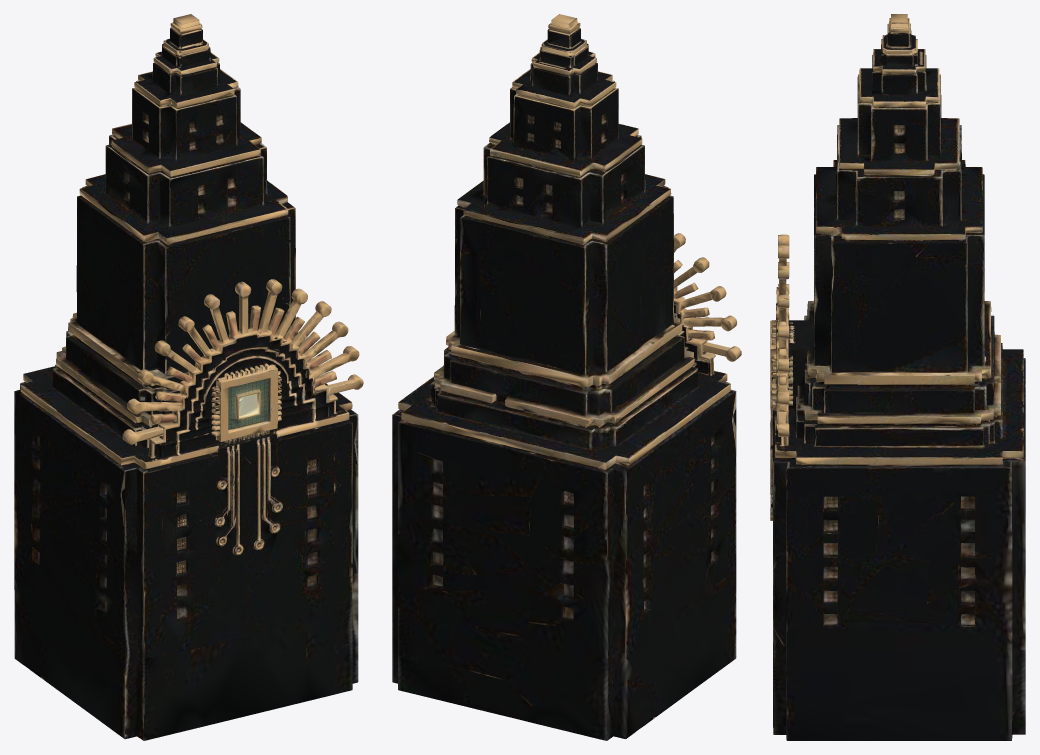
File: sun-tower.glb
3 renders of one model, left to right at view 1: azimuth 30°, elevation 25°; view 2: azimuth 150°, elevation 25°; view 3: azimuth 270°, elevation 25°, orthographic. The views are drawn at different scales.
Size of the model in its own units: 0.7213 by 1.9 by 0.6627.
Materials: 1 (1 with a texture image).
